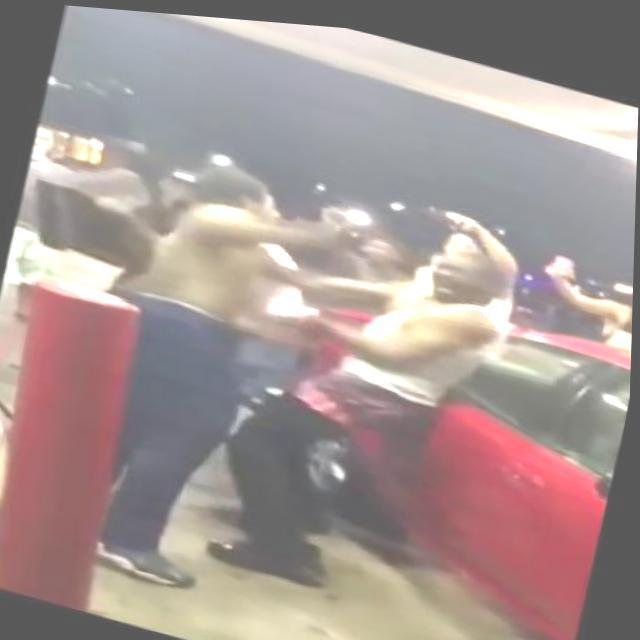fight: (96, 141, 518, 586)
